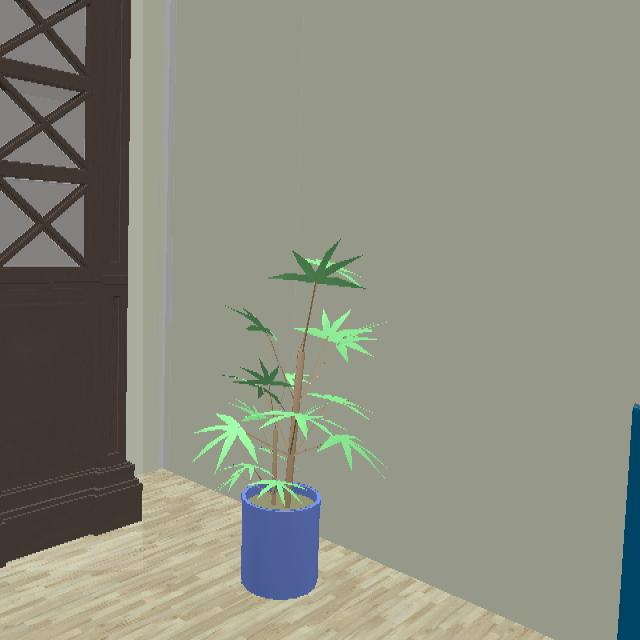bookshelf: (0, 0, 143, 570)
